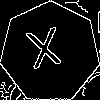X: (25, 27, 66, 79)
